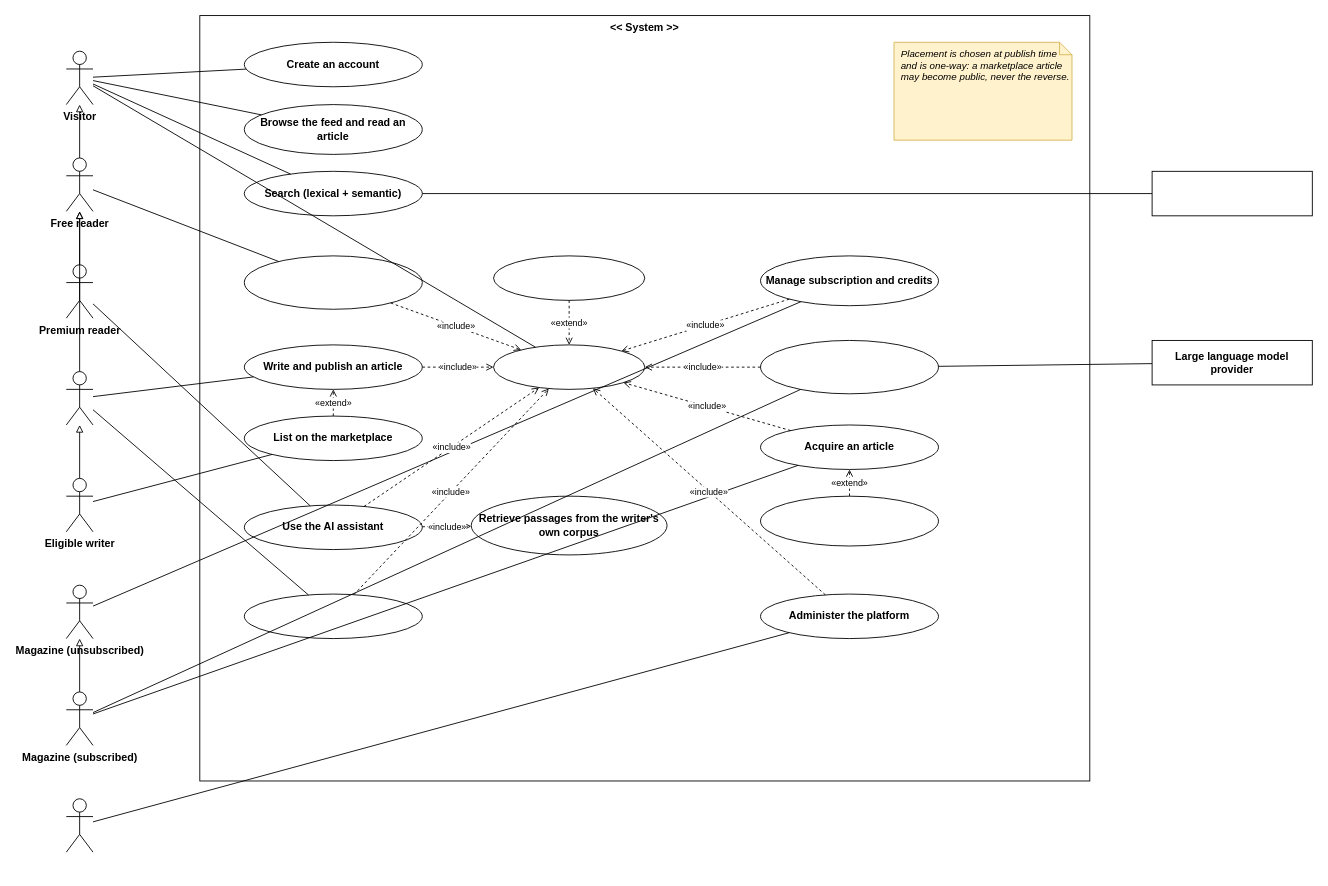
Image size: 1328x886. Some labels were removed from this diagram. Each missing label, with the centre of its shape:
"Administrator" goes at (x=79, y=825).
"Embedding provider" goes at (x=1231, y=193).
"Evaluate a writer and read AI insights" goes at (x=849, y=367).
"Interact (like, comment, follow, report)" goes at (x=332, y=282).
"Sign in" goes at (x=569, y=366).
"Sign in with Google" goes at (x=569, y=277).
"Unlock a preview (10% of the price)" goes at (x=849, y=520).
"View analytics and earnings" goes at (x=332, y=616).
"Writer" goes at (x=79, y=398).
